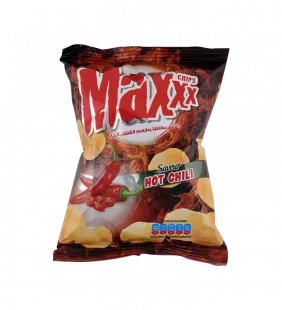MAXXX: (45, 37, 236, 276)
